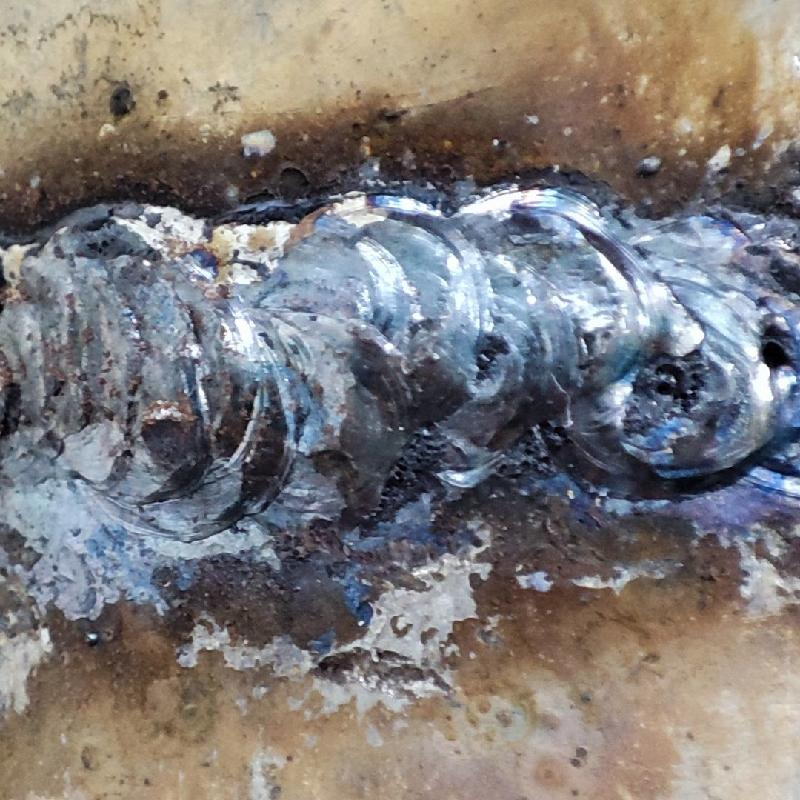Surface_pores: (748, 321, 799, 379)
good: (0, 211, 799, 516)
